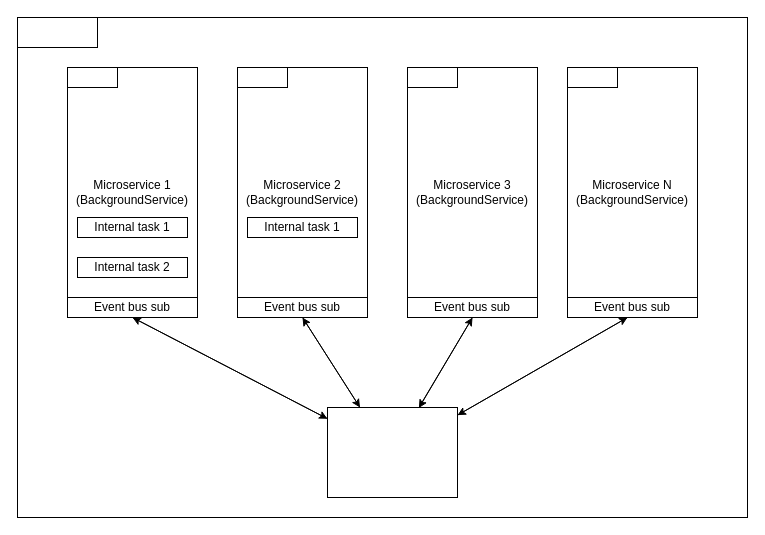
This 765x535 diagram has some shape labels left out. The centre of each missing label's shape, as x and y in pixels:
"Application" goes at point (57, 32).
"Event bus (pub-sub, multicast)" goes at point (392, 452).
"Task 1" goes at point (92, 77).
"Task 2" goes at point (262, 77).
"Task 3" goes at point (432, 77).
"Task N" goes at point (592, 77).
